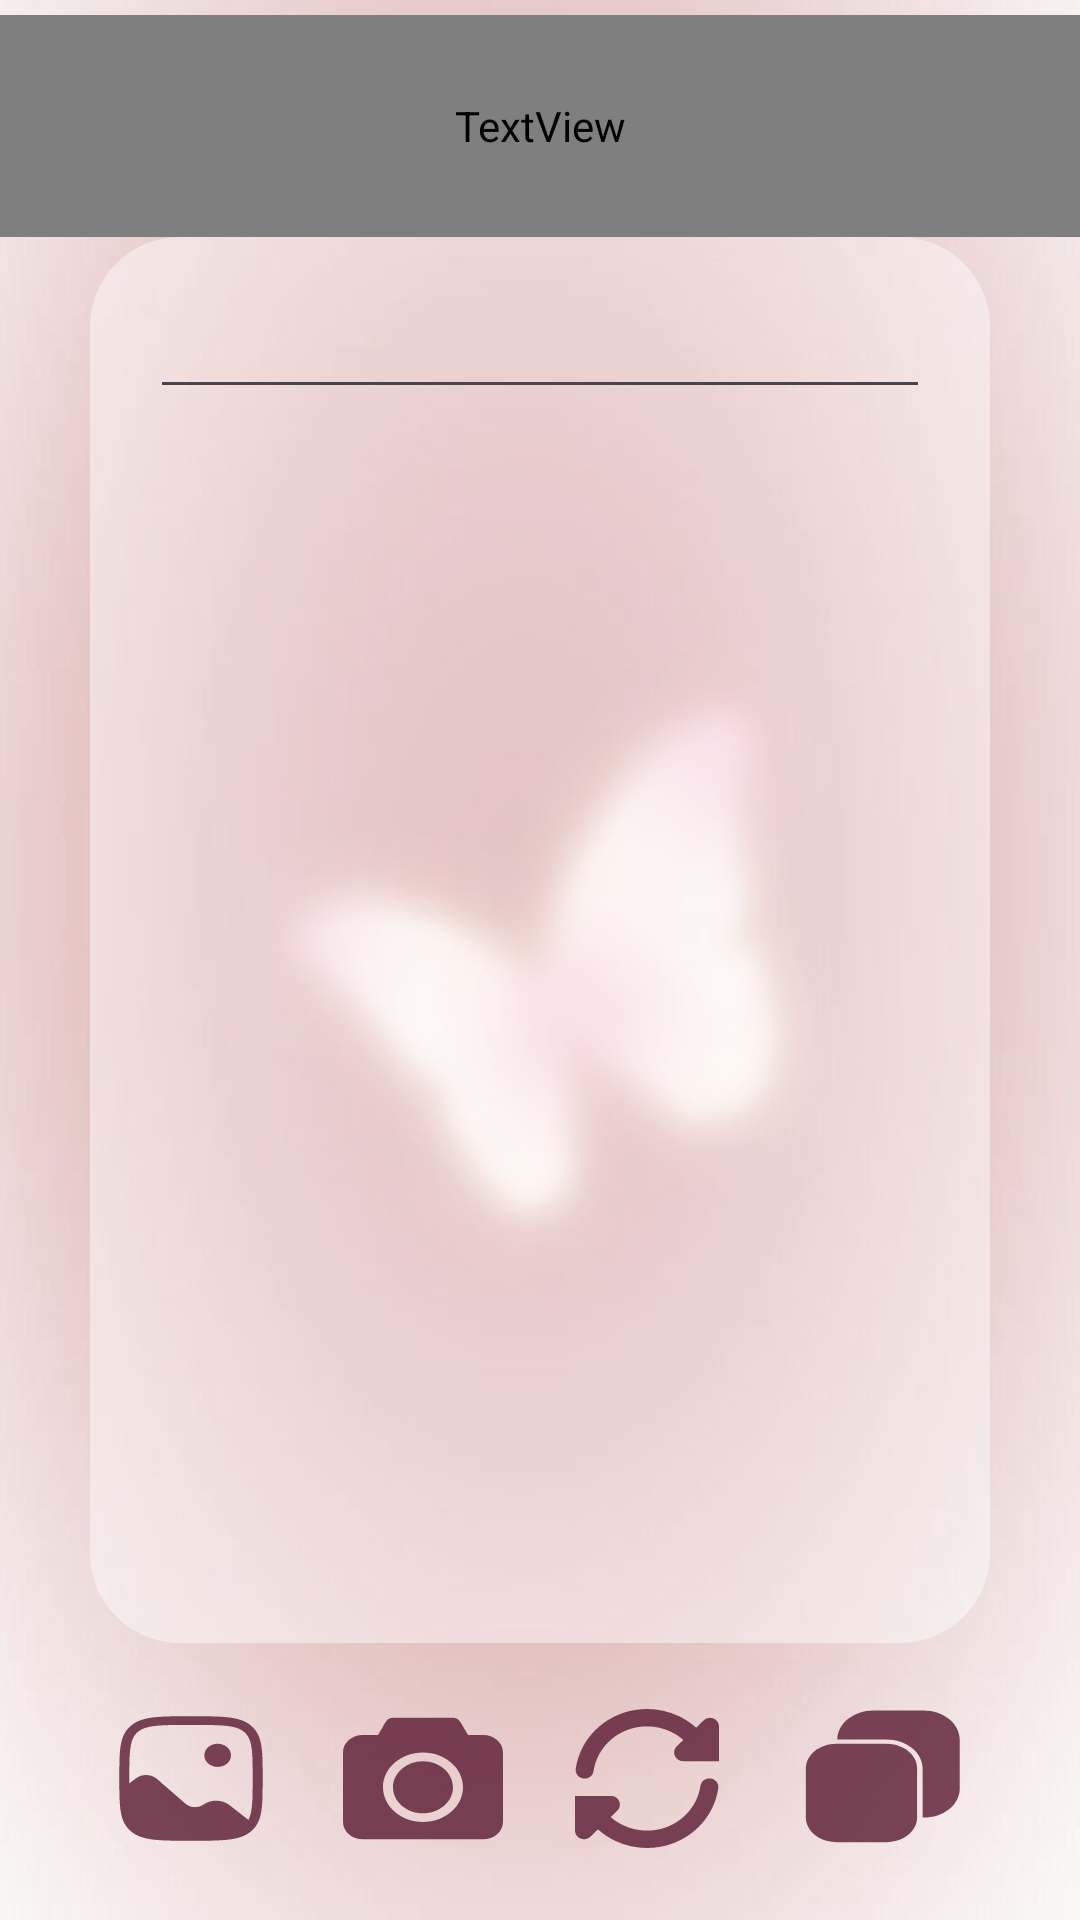

Icon bounding boxes for this 1080w x 1920h phone screenshot, format (x1, y1, x2, y2):
camera: (343, 1717, 503, 1840)
gallery: (119, 1716, 263, 1841)
retry: (575, 1709, 719, 1848)
